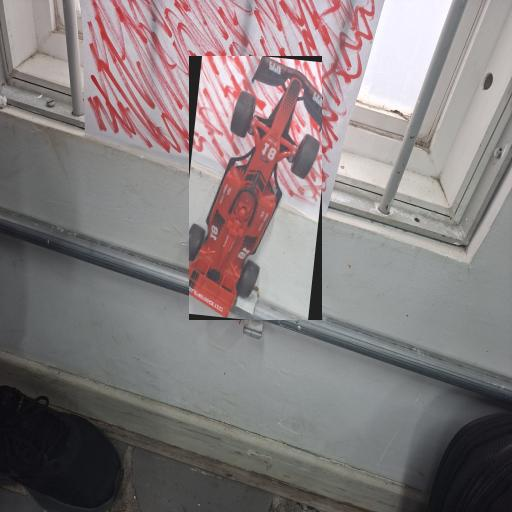carro: (189, 56, 321, 320)
